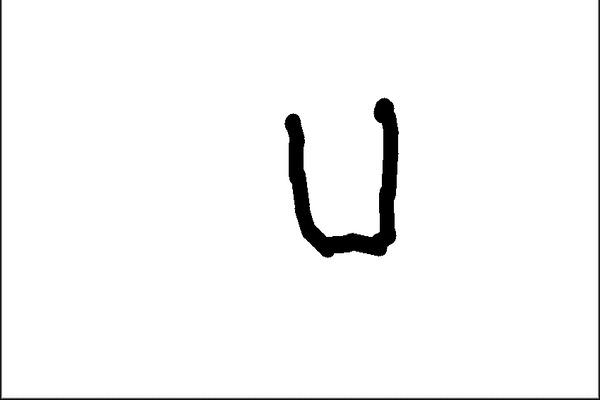U: (274, 91, 412, 267)
